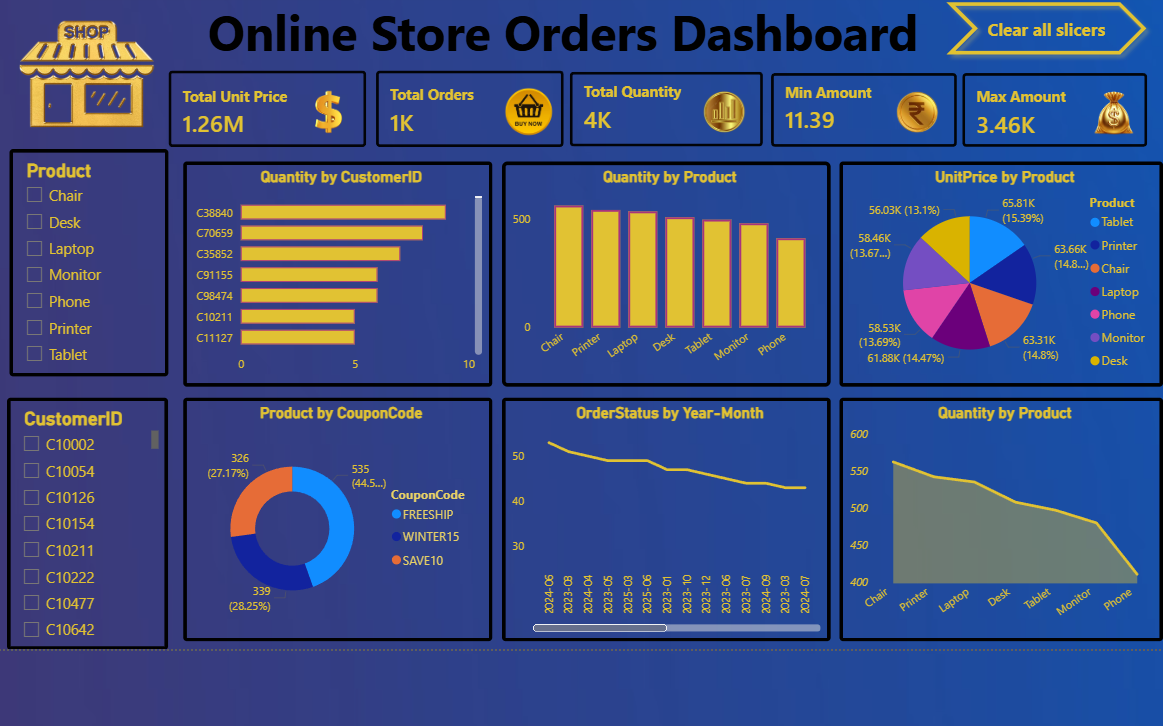

Layout of this report page (visuals, bound fields, positions):
{"tool":"powerbi","page":{"name":"Page 3","canvas":[1280,720],"ordinal":0},"visuals":[{"type":"cardVisual","fields":{"Data":["Calendar.Total Unit Price"]},"box":[171.5,67.2,251.1,118],"z":0},{"type":"cardVisual","fields":{"Data":["Calendar.Total Orders"]},"box":[399.3,67.2,240.1,118],"z":1},{"type":"cardVisual","fields":{"Data":["Calendar.Total Quantity"]},"box":[612,68.6,247,116.6],"z":2},{"type":"cardVisual","fields":{"Data":["Calendar.Min Amount"]},"box":[832.9,70,238.8,115.3],"z":5},{"type":"cardVisual","fields":{"Data":["Calendar.Max Amount"]},"box":[1042.9,70,237.4,115.3],"z":6},{"type":"textbox","box":[226.4,0,806.9,105.7],"z":7},{"type":"image","box":[22,11,156.4,159.2],"z":8},{"type":"clusteredBarChart","title":"Quantity by CustomerID","fields":{"Category":["order.CustomerID"],"Y":["Sum(order.Quantity)"]},"box":[204.5,183.9,338.9,247],"z":9},{"type":"clusteredColumnChart","title":" Quantity by Product","fields":{"Category":["order.Product"],"Y":["Sum(order.Quantity)"]},"box":[554.4,183.9,360.9,247],"z":10},{"type":"pieChart","title":"UnitPrice by Product","fields":{"Category":["order.Product"],"Y":["Sum(order.UnitPrice)"]},"box":[924.9,183.9,355.4,247],"z":11},{"type":"donutChart","title":"Product by CouponCode","fields":{"Category":["order.CouponCode"],"Y":["CountNonNull(order.Product)"]},"box":[204.5,443.2,338.9,267.6],"z":12},{"type":"lineChart","title":"OrderStatus by Year-Month","fields":{"Y":["CountNonNull(order.OrderStatus)"],"Category":["Calendar.Year-Month"]},"box":[554.4,443.2,360.9,267.6],"z":13},{"type":"areaChart","title":"Quantity by Product","fields":{"Category":["order.Product"],"Y":["Sum(order.Quantity)"]},"box":[924.9,443.2,355.4,267.6],"z":14},{"type":"actionButton","box":[1033.3,0,237.4,75.5],"z":15},{"type":"slicer","fields":{"Values":["order.Product"]},"box":[13.7,170.2,174.3,249.7],"z":16},{"type":"slicer","fields":{"Values":["order.CustomerID"]},"box":[11,443.2,177,277.2],"z":17}]}

Visuals, with their boxes in screenshot pixels (x1, y1, x2, y2):
cardVisual - Calendar.Total Unit Price: 160/60/385/166
cardVisual - Calendar.Total Orders: 364/60/579/166
cardVisual - Calendar.Total Quantity: 554/61/776/166
cardVisual - Calendar.Min Amount: 752/63/966/166
cardVisual - Calendar.Max Amount: 941/63/1153/166
textbox: 209/0/932/95
image: 26/10/166/153
"Quantity by CustomerID" clusteredBarChart: 189/165/493/386
" Quantity by Product" clusteredColumnChart: 503/165/826/386
"UnitPrice by Product" pieChart: 835/165/1153/386
"Product by CouponCode" donutChart: 189/397/493/637
"OrderStatus by Year-Month" lineChart: 503/397/826/637
"Quantity by Product" areaChart: 835/397/1153/637
actionButton: 932/0/1145/68
slicer - order.Product: 18/153/175/376
slicer - order.CustomerID: 16/397/175/646
